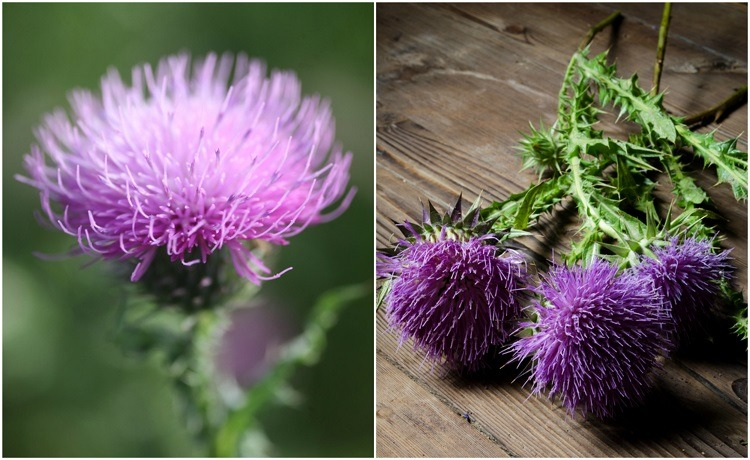thistle: (11, 53, 346, 332), (524, 248, 671, 432), (397, 205, 530, 385), (625, 217, 732, 336)
